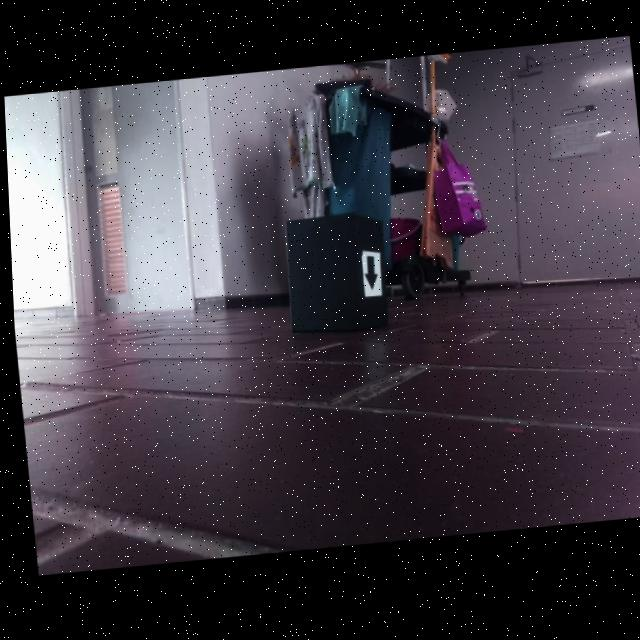DOWN: (362, 259, 377, 294)
